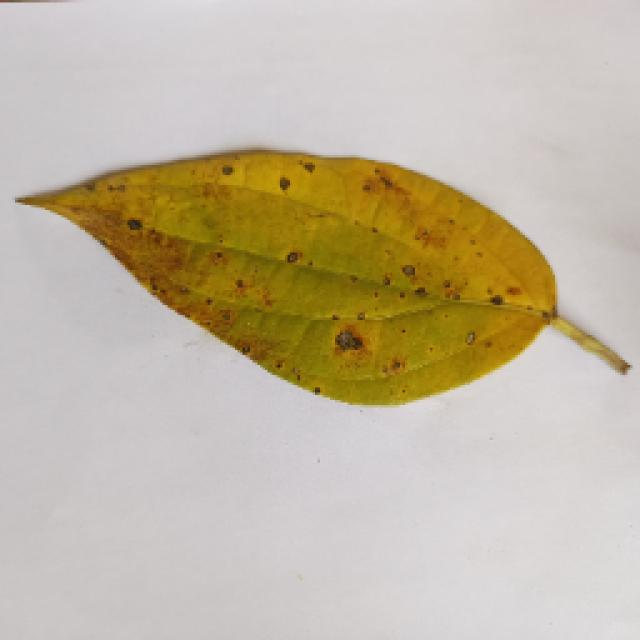slow-decline: (10, 150, 612, 400)
